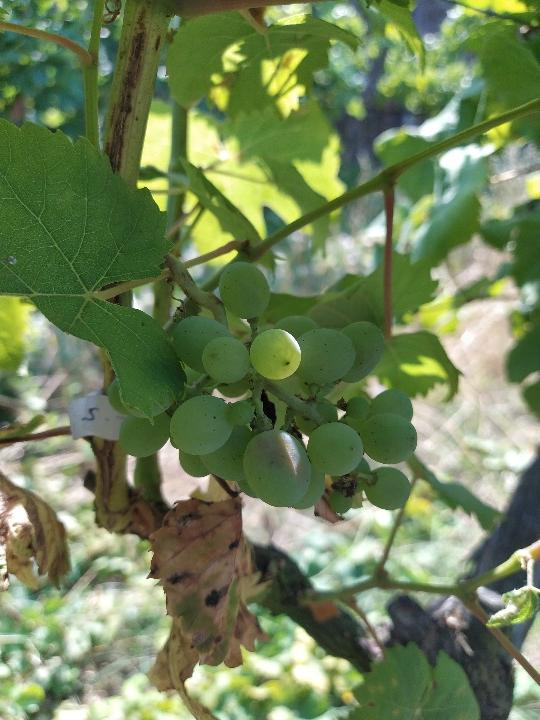grape: (108, 258, 420, 517)
